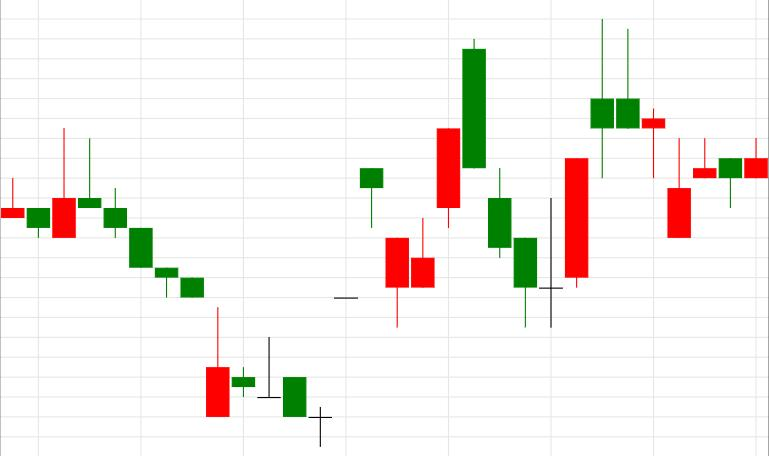morning_star_rise: (463, 38, 588, 327)
